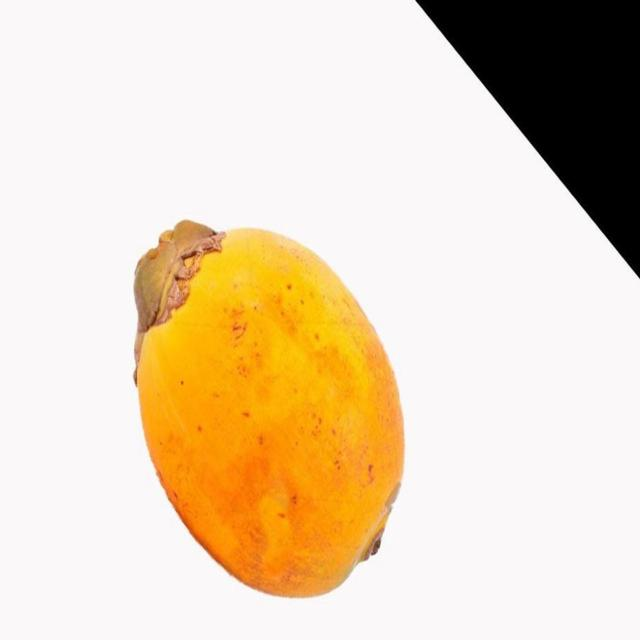good: (131, 220, 408, 602)
